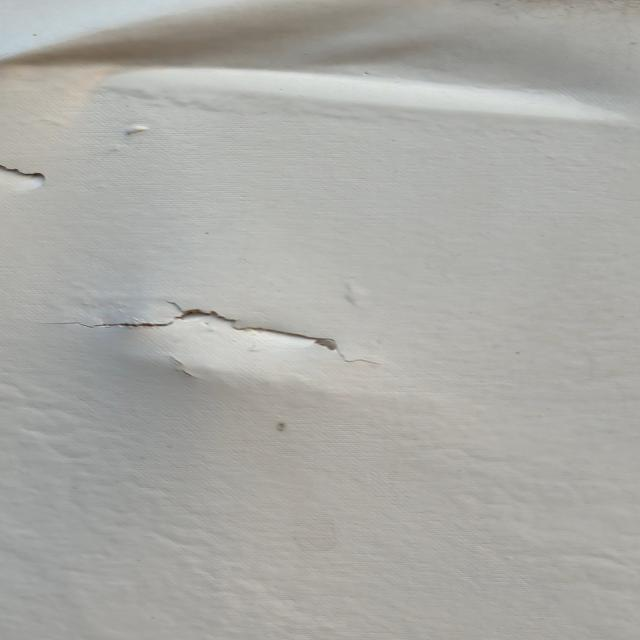Dents or Deformation: (1, 1, 640, 132)
Scratches: (43, 277, 445, 371), (1, 161, 96, 204)
